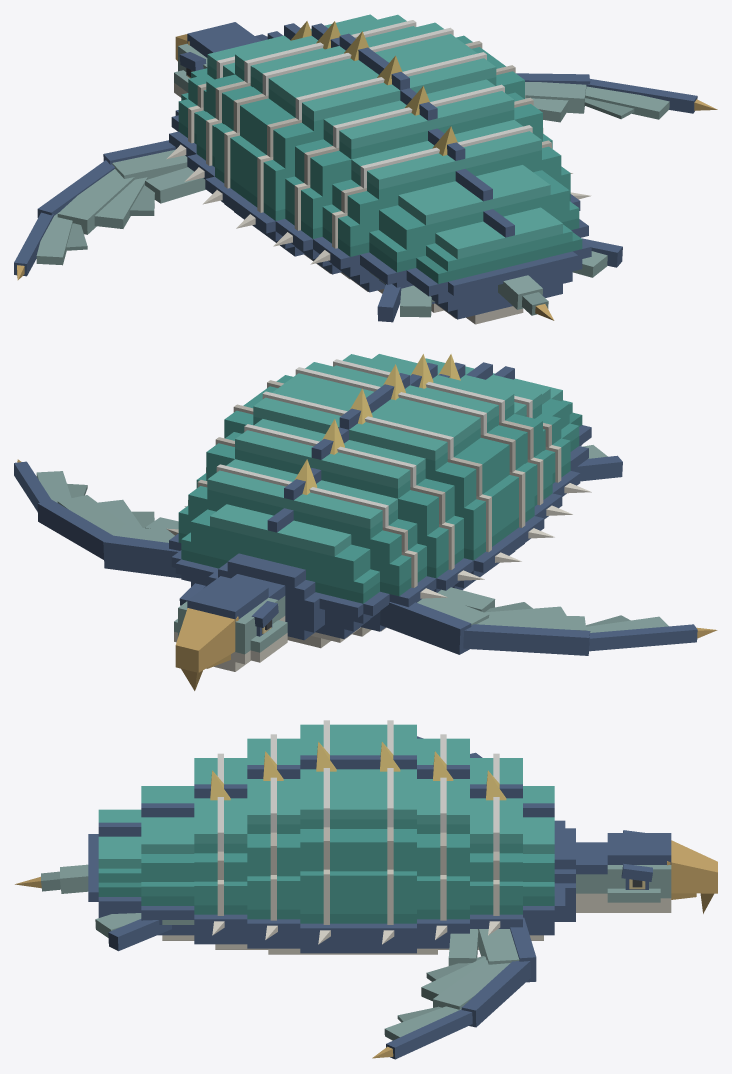
File: Archelon.glb
3 views of the same model, one above another, from view 1: azimuth 30°, elevation 25°; view 2: azimuth 150°, elevation 25°; view 3: azimuth 270°, elevation 25° (orthographic). The views are drawn at different scales.
Visible parts, largest first — view 1: Shell, WingL2, WingL1, WingR3, Head, WingL3, WingR2, FlipBL, Tail, FlipBR; view 2: Shell, Head, WingL2, WingL1, WingR2, WingR1, WingL3, WingR3, FlipBL; view 3: Shell, Head, WingR2, WingR1, WingR3, FlipBR, Tail.
Boxes of the visible parts, <box> form: Shell: <box>166,14,591,324</box>; WingL2: <box>37,160,154,234</box>; WingL1: <box>103,140,205,203</box>; WingR3: <box>584,79,717,119</box>; Head: <box>174,22,267,97</box>; WingL3: <box>14,212,87,280</box>; WingR2: <box>516,73,590,122</box>; FlipBL: <box>377,284,434,322</box>; Tail: <box>498,275,554,320</box>; FlipBR: <box>572,238,622,277</box>; Shell: <box>166,354,591,648</box>; Head: <box>174,574,287,690</box>; WingL2: <box>463,602,590,655</box>; WingL1: <box>380,587,495,654</box>; WingR2: <box>37,495,154,559</box>; WingR1: <box>103,517,181,578</box>; WingL3: <box>586,615,717,651</box>; WingR3: <box>14,459,87,511</box>; FlipBL: <box>572,445,622,481</box>; Shell: <box>88,720,575,954</box>; Head: <box>576,830,717,913</box>; WingR2: <box>421,956,530,1027</box>; WingR1: <box>448,917,536,982</box>; WingR3: <box>372,1006,472,1059</box>; FlipBR: <box>95,913,171,951</box>; Tail: <box>15,864,88,893</box>.
Size of the model in its own units: 32.87 by 8.41 by 29.88.
